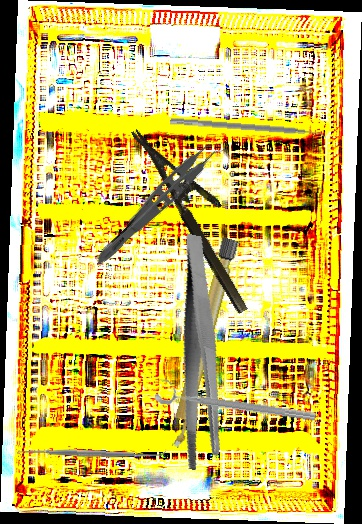Dressing Forceps: (135, 233, 266, 475)
Fixation Ring: (153, 376, 319, 426)
Needle Holder: (131, 111, 273, 316)
Scalpel Handle: (165, 236, 240, 450)
Spatula Surgical: (169, 117, 327, 142), (16, 442, 167, 464)
Tissue Forceps: (91, 129, 231, 278)
